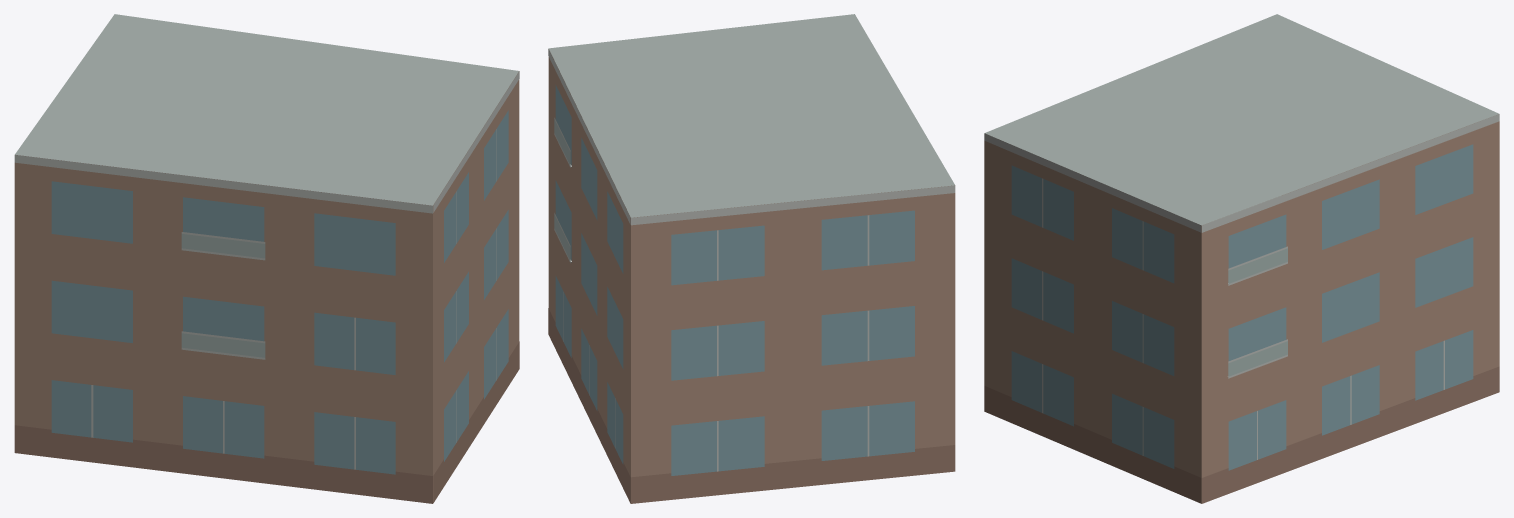
File: survey-upis-32689300.glb
3 views of the same model, side by side, from view 1: azimuth 30°, elevation 25°; view 2: azimuth 150°, elevation 25°; view 3: azimuth 270°, elevation 25° (orthographic). The views are drawn at different scales.
Visible parts, largest first — view 1: survey-upis-32689300.tmp; view 2: survey-upis-32689300.tmp; view 3: survey-upis-32689300.tmp.
Boxes of the visible parts, <box> form: survey-upis-32689300.tmp: <box>14,14,519,503</box>; survey-upis-32689300.tmp: <box>548,14,955,503</box>; survey-upis-32689300.tmp: <box>984,14,1499,503</box>.
Bounding box in the file's own units: 14.92 × 9.15 × 15.35.
